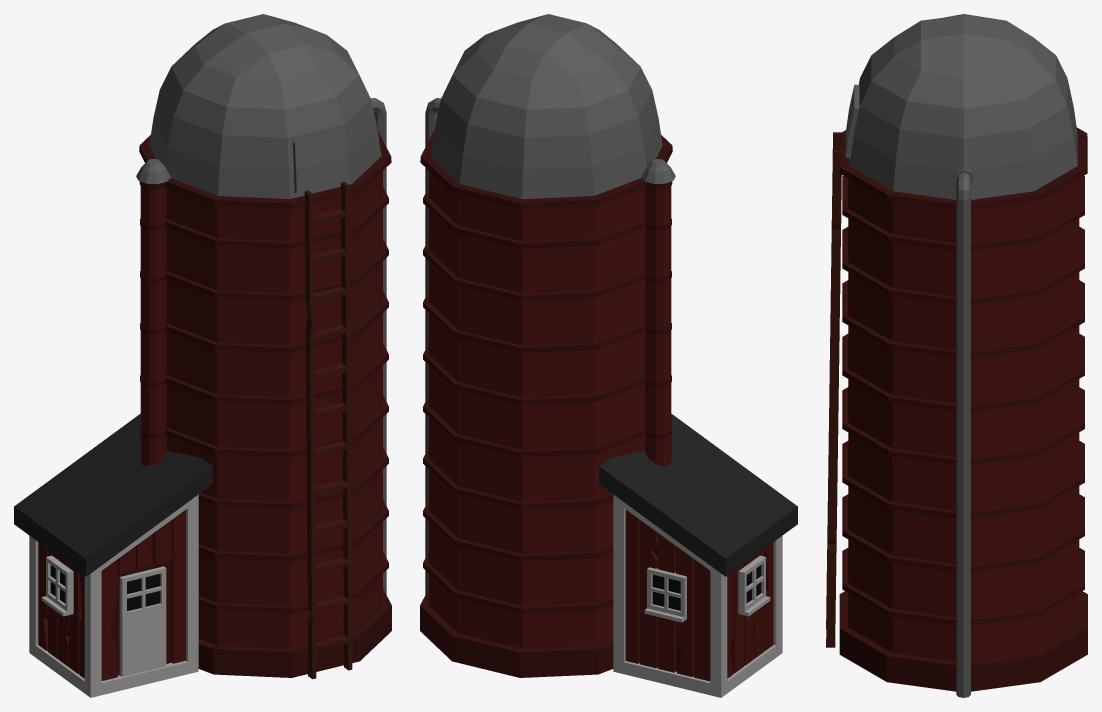
Rendered from Silo_House.FBX.
The picture shows the model from 3 angles, left to right: view 1: azimuth 30°, elevation 25°; view 2: azimuth 150°, elevation 25°; view 3: azimuth 270°, elevation 25°; orthographic projection. The views are drawn at different scales.
Parts seen in each view (by area): view 1: Silo_House; view 2: Silo_House; view 3: Silo_House.
Boxes of the visible parts, <box> form: Silo_House: <box>14,14,391,697</box>; Silo_House: <box>420,14,797,697</box>; Silo_House: <box>826,14,1087,697</box>.
Size of the model in its own units: 534 by 907 by 351.
